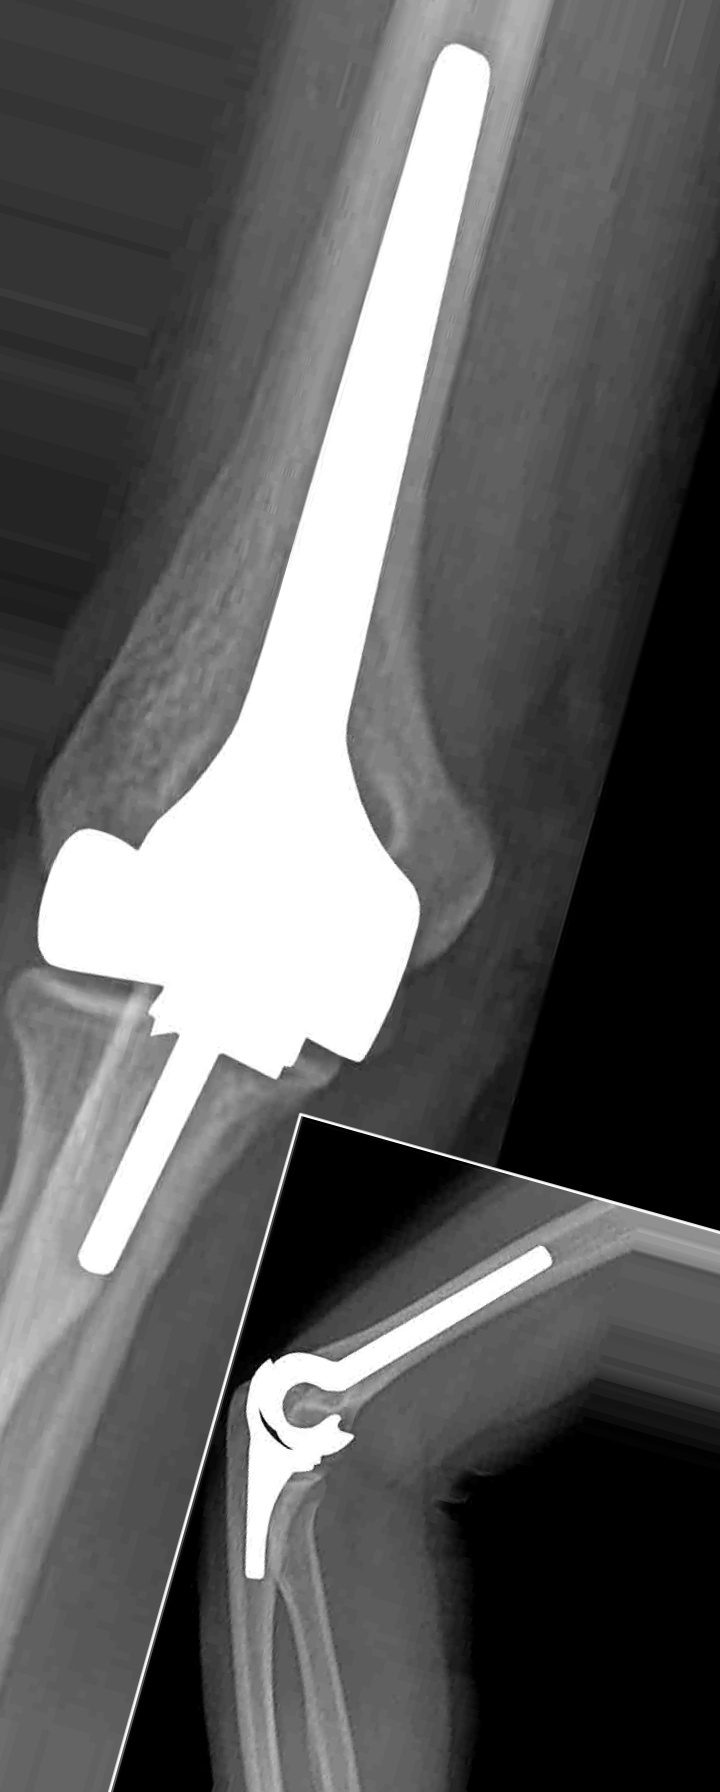Elbow - IBP - Biomet: (33, 29, 497, 1285), (222, 1229, 574, 1584)
